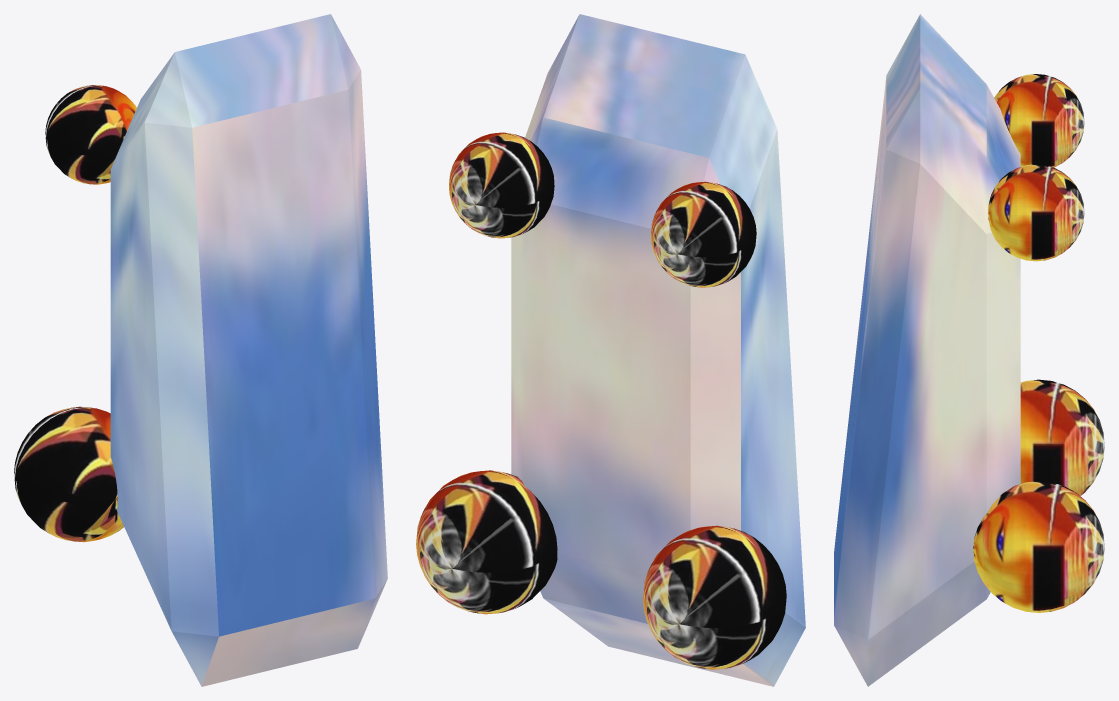
Rendered from payload-payload.glb.
The picture shows the model from 3 angles, left to right: view 1: azimuth 30°, elevation 25°; view 2: azimuth 150°, elevation 25°; view 3: azimuth 270°, elevation 25°; orthographic projection. The views are drawn at different scales.
Visible parts, largest first — view 1: Cube.7020; view 2: Cube.7020; view 3: Cube.7020.
Part boxes in pixels (bbox=[...]): Cube.7020: bbox=[14, 14, 387, 686]; Cube.7020: bbox=[416, 14, 805, 686]; Cube.7020: bbox=[834, 14, 1104, 686].
Bounding box in the file's own units: 15.3 × 27.17 × 11.13.
2 materials, 2 textured.
